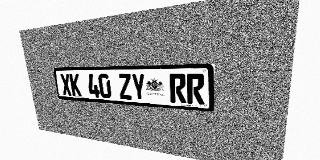0: (98, 74, 112, 98)
4: (87, 74, 100, 98)
K: (69, 74, 82, 96)
R: (186, 73, 204, 105), (169, 73, 186, 103)
X: (60, 74, 72, 96)
Y: (131, 74, 146, 101)
Z: (118, 74, 132, 100)
